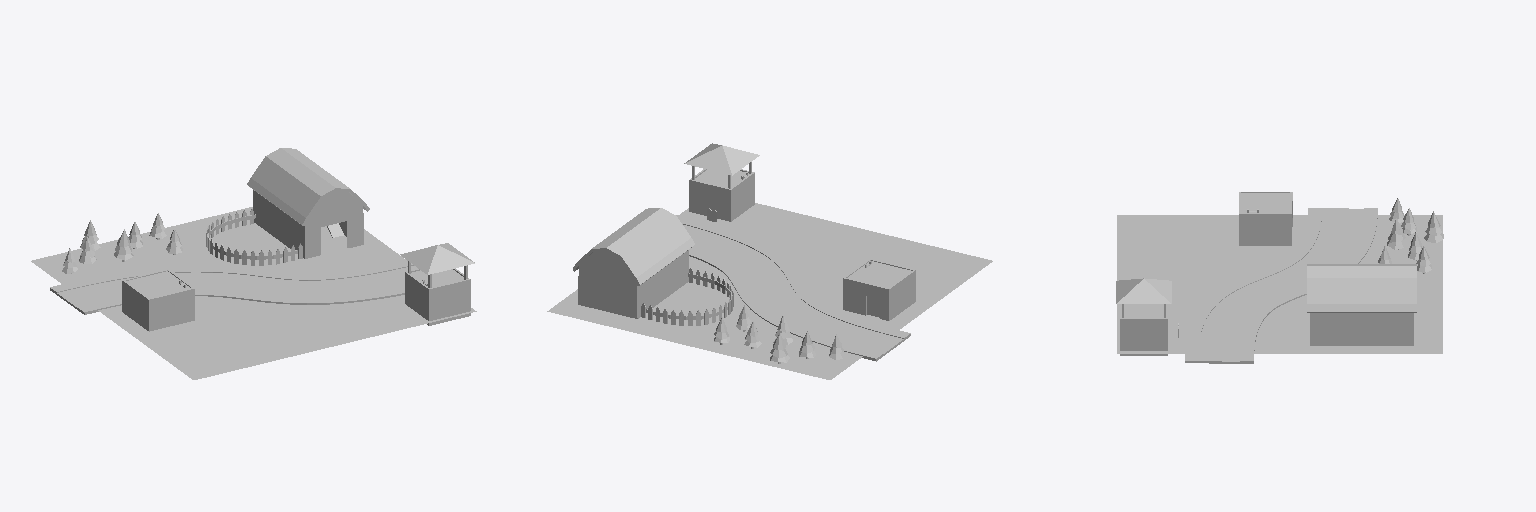
File: full starting map.obj
3 views of the same model, side by side, from view 1: azimuth 30°, elevation 25°; view 2: azimuth 150°, elevation 25°; view 3: azimuth 270°, elevation 25° (orthographic).
Parts seen in each view (by area): view 1: Plane, Road, Barn, Cone, Building1, Barn_Fence; view 2: Plane, Road, Barn, Cone, Building1, Barn_Fence; view 3: Plane, Road, Barn, Cone, Building1.
Boxes of the visible parts, x1,y1,x2,y2 form: Plane: [31, 207, 476, 379]; Road: [50, 260, 417, 314]; Barn: [247, 148, 369, 258]; Cone: [400, 243, 474, 325]; Building1: [122, 269, 194, 331]; Barn_Fence: [206, 209, 302, 265]; Plane: [547, 203, 992, 379]; Road: [676, 215, 910, 361]; Barn: [573, 208, 694, 318]; Cone: [684, 143, 759, 221]; Building1: [843, 259, 915, 320]; Barn_Fence: [641, 268, 733, 325]; Plane: [1117, 215, 1442, 353]; Road: [1185, 208, 1377, 363]; Barn: [1307, 264, 1416, 345]; Cone: [1116, 278, 1171, 355]; Building1: [1239, 192, 1292, 245].
Size of the model in its own units: 65.84 by 14.14 by 59.42.